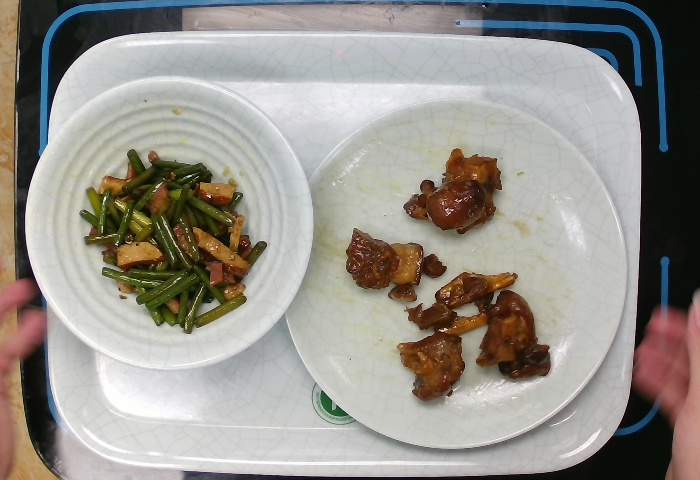JYsf-Da_Yuan_Pan: (289, 91, 630, 454)
JYsf-Xiao_Tang_Wan: (19, 72, 321, 374)
